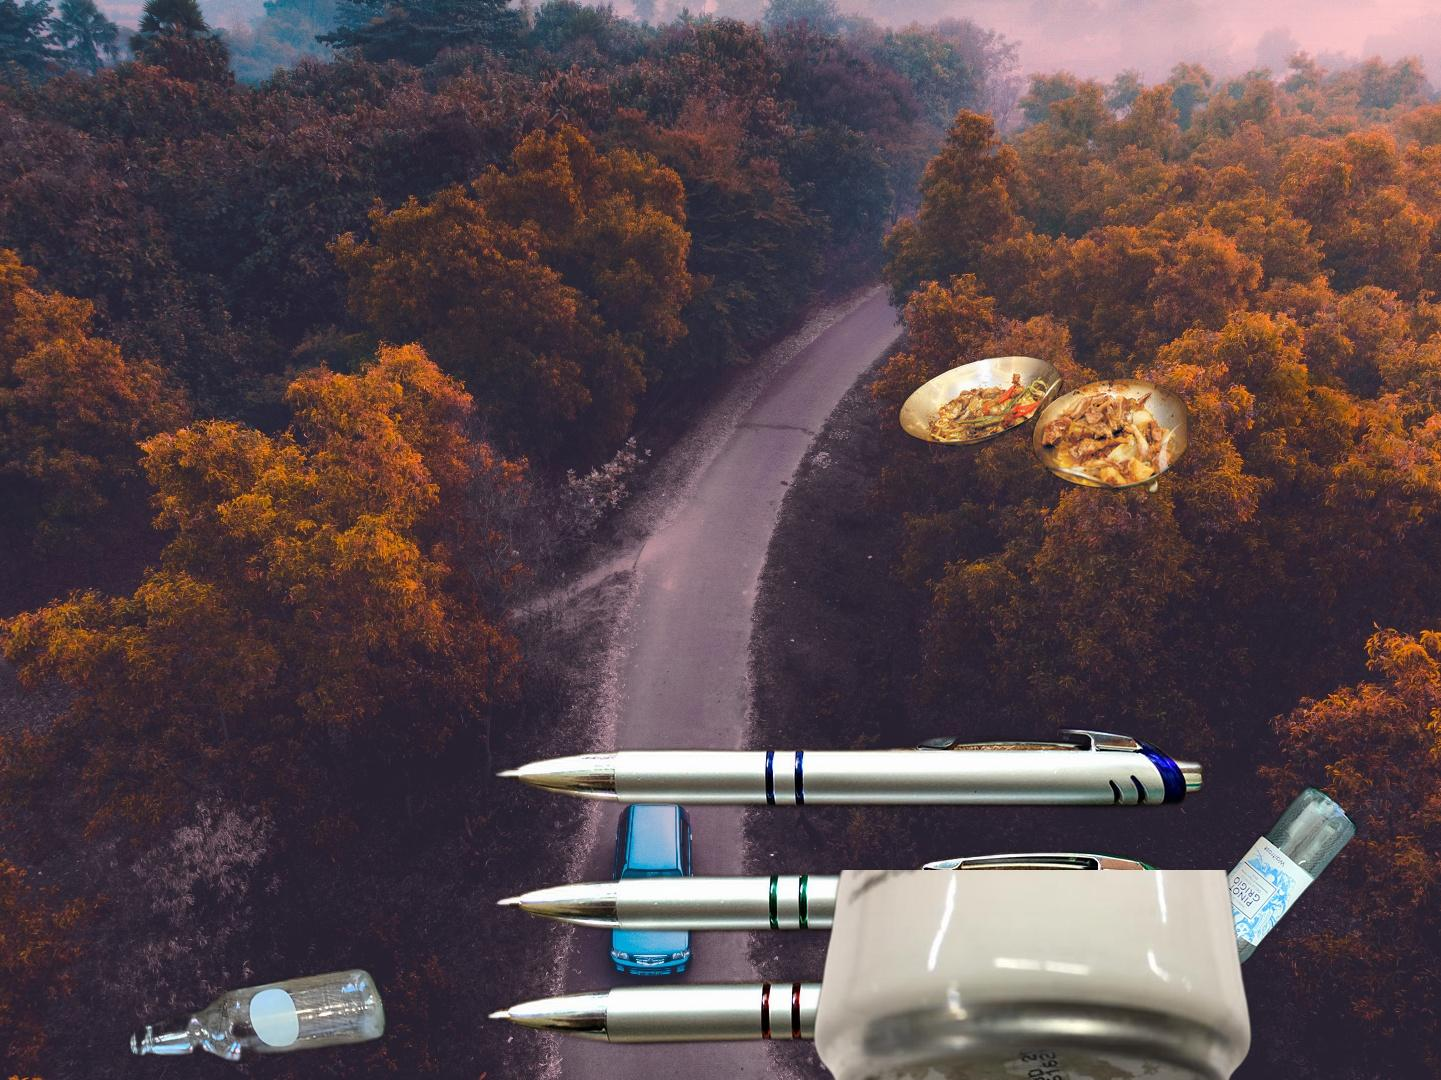biological: (893, 348, 1409, 518)
glass: (1137, 781, 1361, 1033), (125, 960, 390, 1067)
metal-cans: (810, 870, 1257, 1080)
penholder: (481, 720, 1221, 1052)
